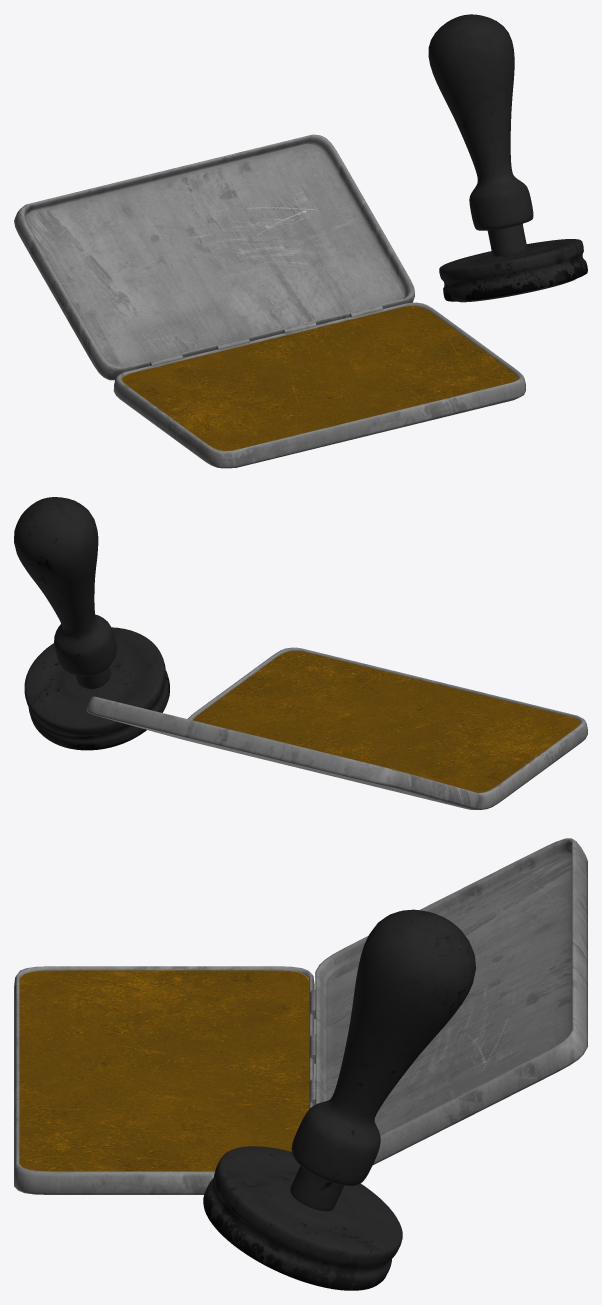
The model's file is ink.fbx.
The picture shows the model from 3 angles, top to bottom: view 1: azimuth 30°, elevation 25°; view 2: azimuth 150°, elevation 25°; view 3: azimuth 270°, elevation 25°; orthographic projection. The views are drawn at different scales.
Parts seen in each view (by area): view 1: Ink, Stamp; view 2: Ink, Stamp; view 3: Ink, Stamp.
Part boxes in pixels (left/top/right/bottom): Ink: left=14, top=134, right=525, bottom=468; Stamp: left=428, top=14, right=587, bottom=302; Ink: left=86, top=647, right=587, bottom=809; Stamp: left=14, top=497, right=169, bottom=750; Ink: left=14, top=838, right=587, bottom=1194; Stamp: left=203, top=909, right=475, bottom=1290.
Bounding box in the file's own units: 36.72 × 19.59 × 28.71.
